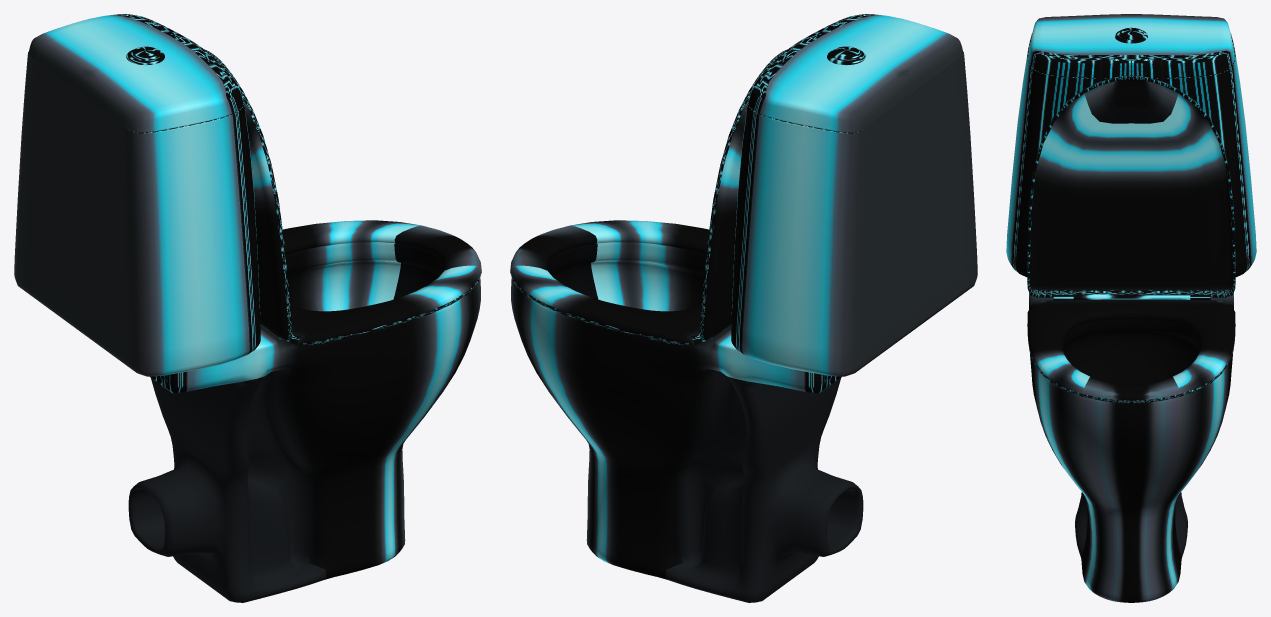
Rendered from toilbowl.obj.
3 renders of one model, left to right at view 1: azimuth 30°, elevation 25°; view 2: azimuth 150°, elevation 25°; view 3: azimuth 270°, elevation 25°, orthographic. The views are drawn at different scales.
Parts seen in each view (by area): view 1: polySurface15, polySurface16, polySurface17, polySurface23, polySurface25; view 2: polySurface15, polySurface16, polySurface17, polySurface23, polySurface25; view 3: polySurface25, polySurface15, polySurface16, polySurface17, polySurface23, pCylinder1.
Boxes of the visible parts, left/top/right/bottom form: polySurface15: left=128, top=242, right=480, bottom=602; polySurface16: left=14, top=51, right=260, bottom=376; polySurface17: left=28, top=14, right=243, bottom=132; polySurface23: left=282, top=220, right=481, bottom=344; polySurface25: left=204, top=49, right=292, bottom=340; polySurface15: left=511, top=242, right=863, bottom=602; polySurface16: left=731, top=51, right=977, bottom=376; polySurface17: left=748, top=14, right=963, bottom=132; polySurface23: left=510, top=220, right=709, bottom=344; polySurface25: left=699, top=49, right=787, bottom=340; polySurface25: left=1027, top=75, right=1235, bottom=297; polySurface15: left=1029, top=293, right=1233, bottom=602; polySurface16: left=1006, top=33, right=1256, bottom=277; polySurface17: left=1028, top=14, right=1234, bottom=78; polySurface23: left=1027, top=299, right=1235, bottom=403; pCylinder1: left=1053, top=294, right=1210, bottom=300.
Bounding box in the file's own units: 0.6007 × 0.8011 × 0.388.
